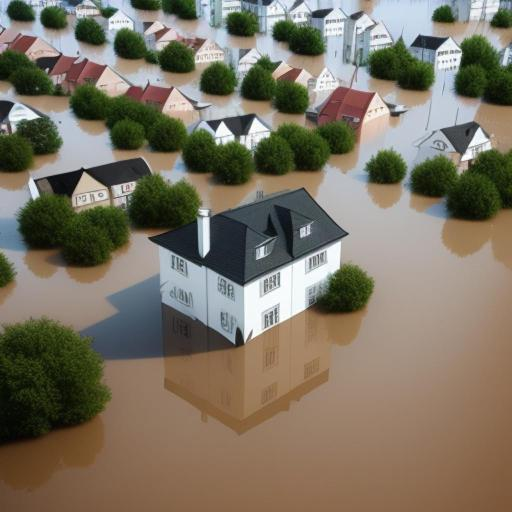flood: (0, 164, 512, 512), (0, 81, 348, 331), (102, 0, 512, 184), (0, 0, 313, 128), (336, 0, 512, 49)
house: (146, 188, 348, 346), (25, 152, 151, 215), (424, 120, 494, 178), (314, 83, 390, 129), (339, 7, 390, 67), (13, 32, 62, 74), (408, 33, 462, 71), (68, 56, 128, 90), (206, 114, 270, 143), (32, 47, 80, 85), (182, 35, 226, 67), (142, 83, 192, 110), (310, 6, 346, 37), (271, 61, 311, 85), (143, 20, 173, 52), (101, 7, 136, 33), (1, 100, 41, 122)
